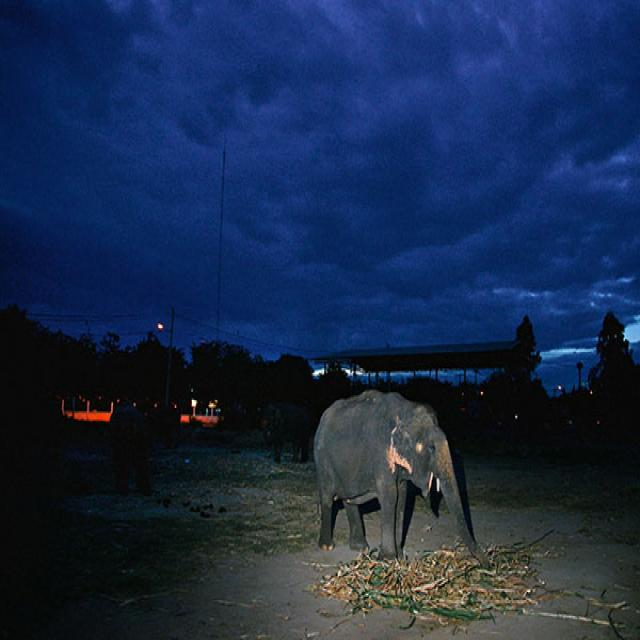Elephant: (306, 367, 504, 605)
